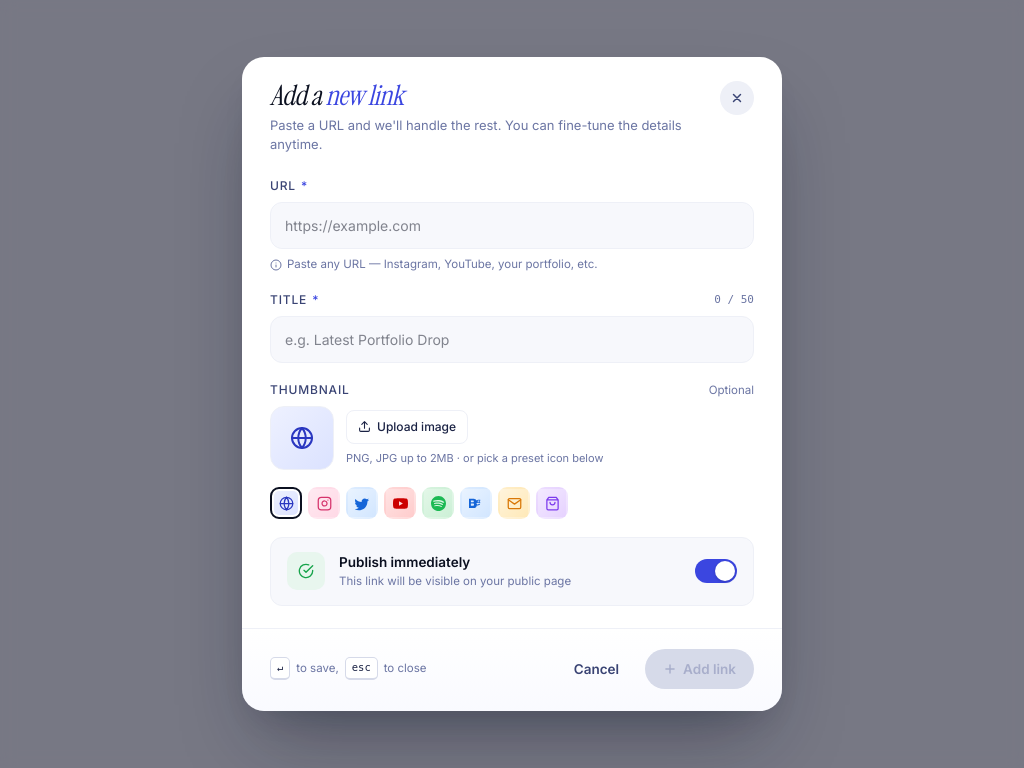
Test: AddEditLinkModal › enables the save button when title and url are filled
The image size is (1024, 768).
Step 1. Type "My Blog" into the field with placeholder "e.g. Latest Portfolio Drop" → [512, 340], box [270,316,754,363]
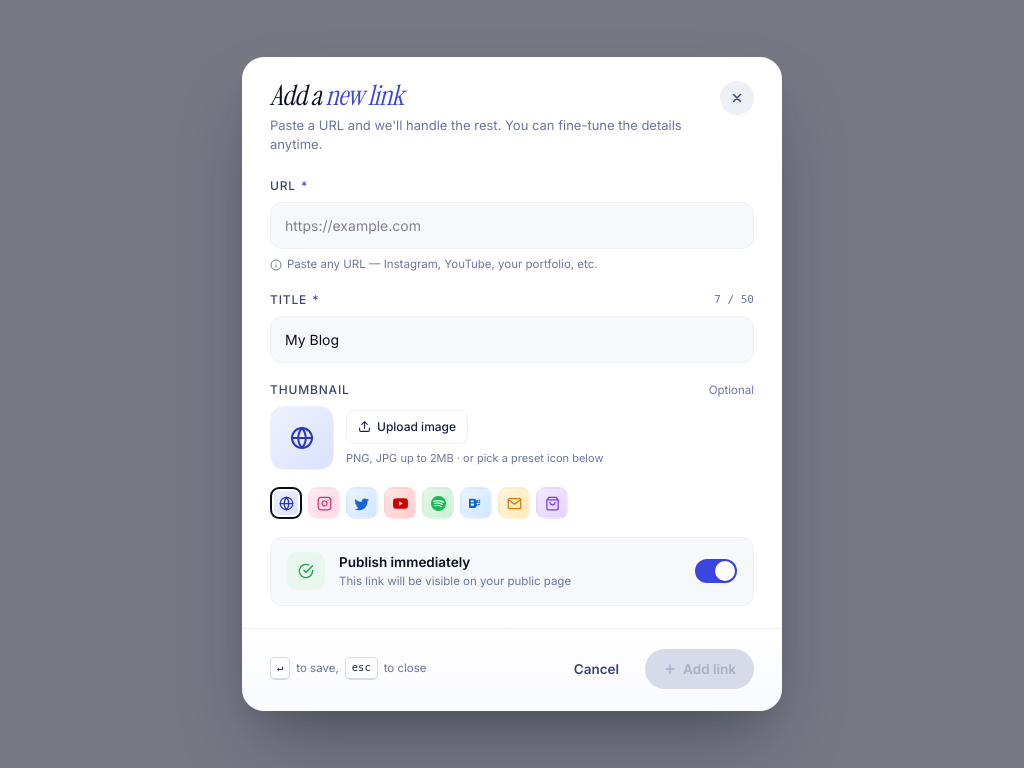
Step 2. Type "https://blog.com" into the field with placeholder "https://example.com" → [512, 225], box [270,202,754,249]
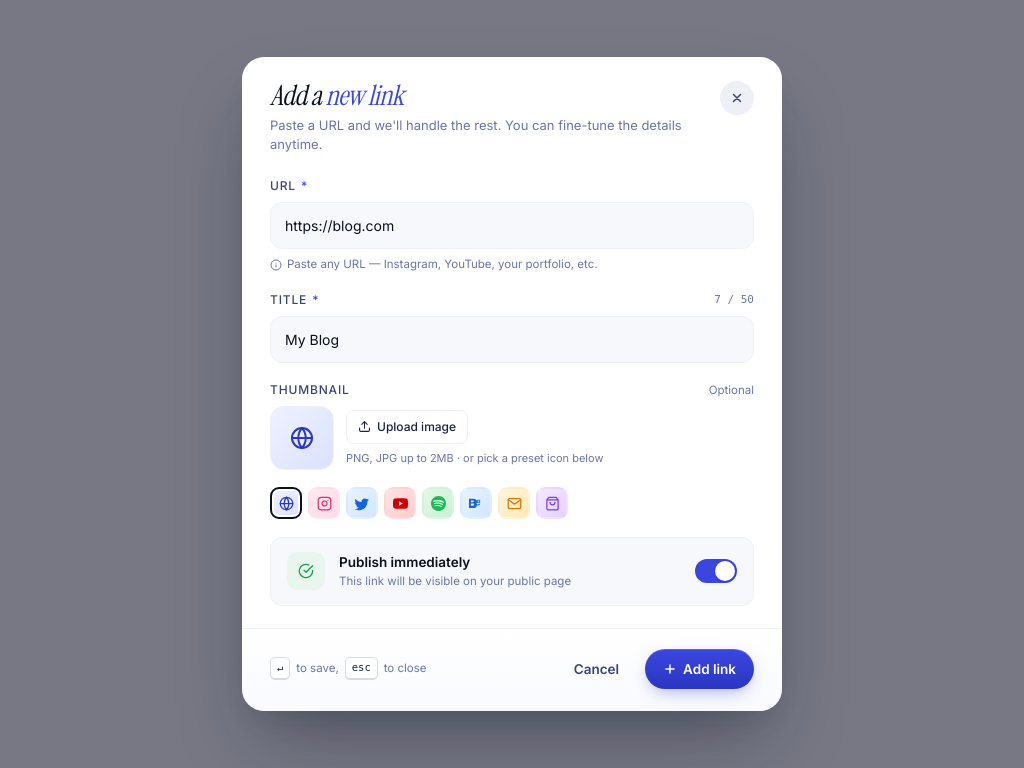
Result: the button "Add link" is enabled at [645,649,754,689]
